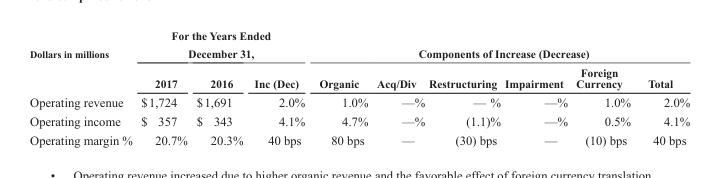table: (29, 29, 689, 146)
table column: (29, 29, 136, 146), (426, 29, 502, 146), (502, 29, 571, 146), (571, 29, 638, 146), (248, 29, 311, 146), (311, 29, 371, 146), (191, 29, 248, 146), (136, 29, 191, 146), (371, 29, 426, 146), (638, 29, 689, 146)
table column header: (29, 29, 689, 92)
table row: (29, 29, 689, 62), (29, 62, 689, 92), (29, 92, 689, 111), (29, 111, 689, 130), (29, 130, 689, 146)
table spanning cell: (311, 29, 689, 62), (29, 29, 136, 92), (136, 29, 311, 62)
